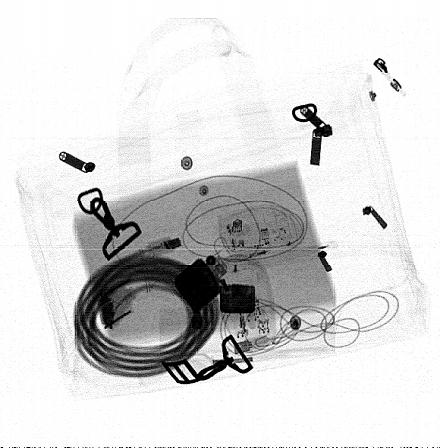Lighter: (174, 254, 256, 315)
